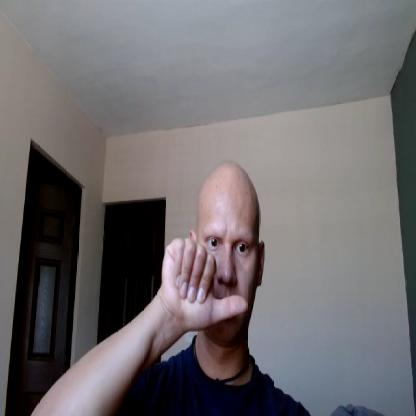A: (160, 236, 249, 334)
